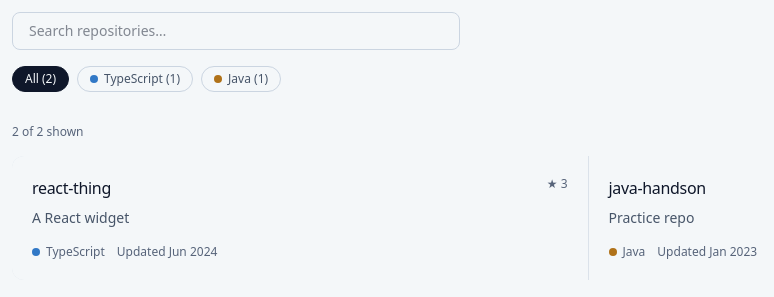
<GithubFeed /> › filters by free-text search across name and description
Step 1. Type "practice" into the search field with placeholder "Search repositories…" → (236, 31), box x1=12 y1=12 x2=460 y2=50
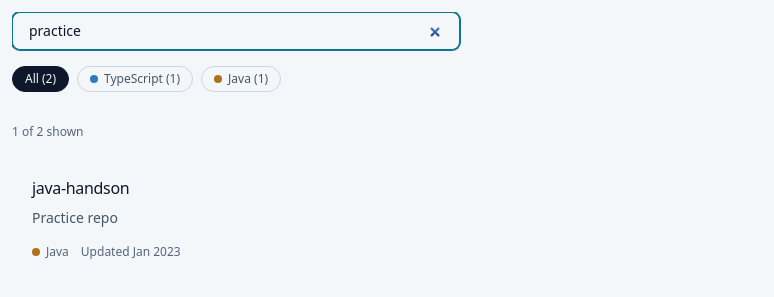
Expected: the heading "java-handson" is shown, x1=32 y1=176 x2=129 y2=200
Now the link "react-thing" is gone
